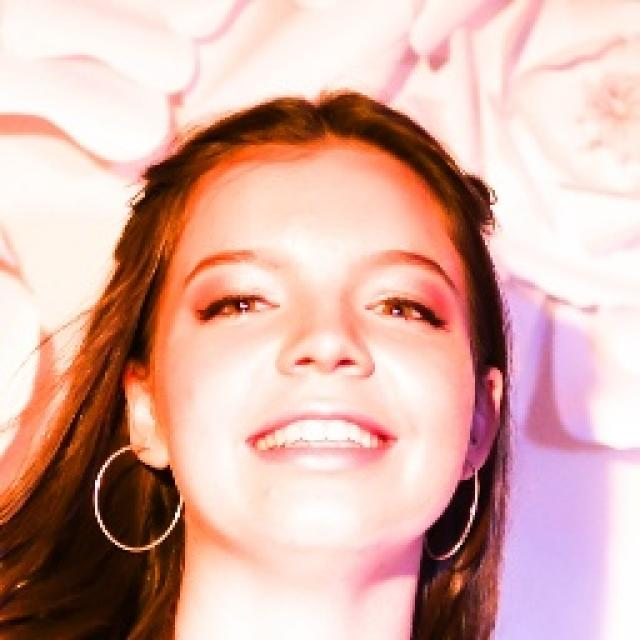earlobe: (122, 356, 171, 471), (459, 366, 504, 482)
